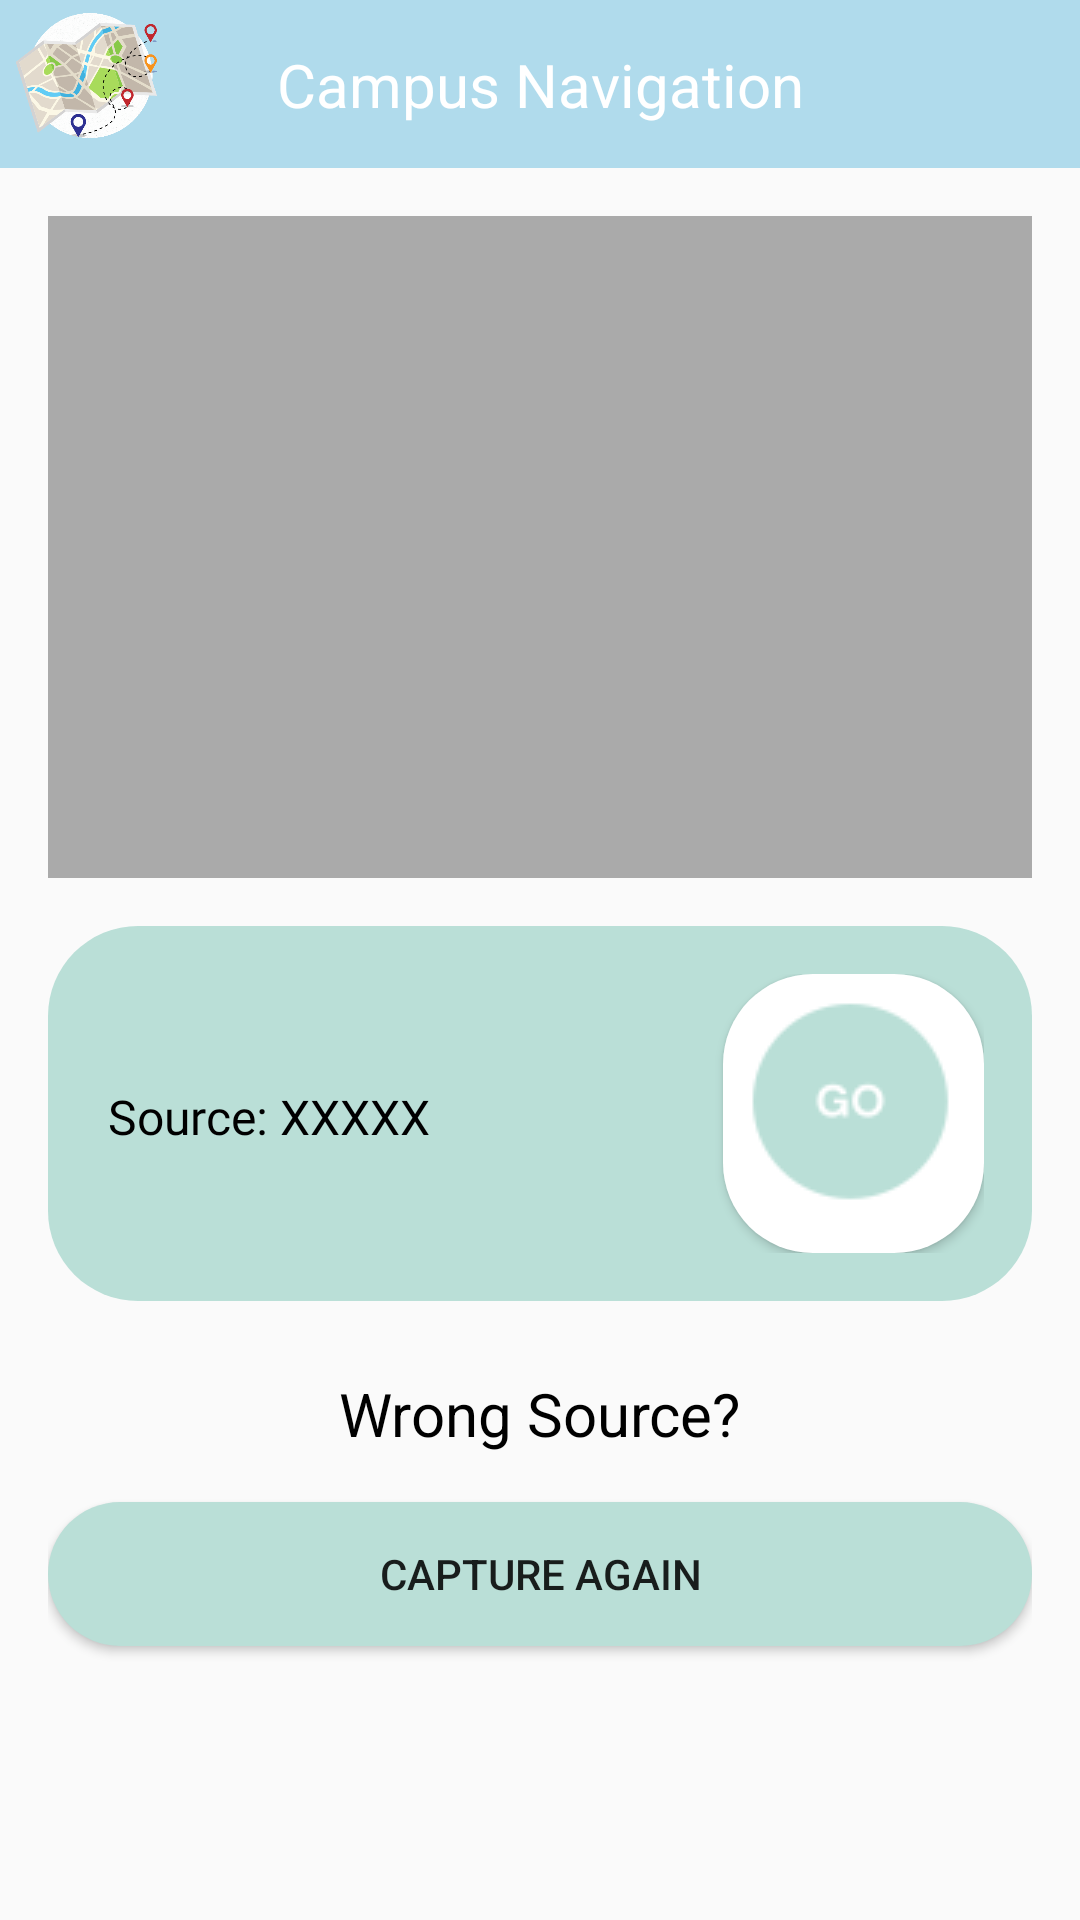

Where to tap for icons on this 1080x1920 app screen, as (x=x, y=y):
appicon: (x=86, y=75)
